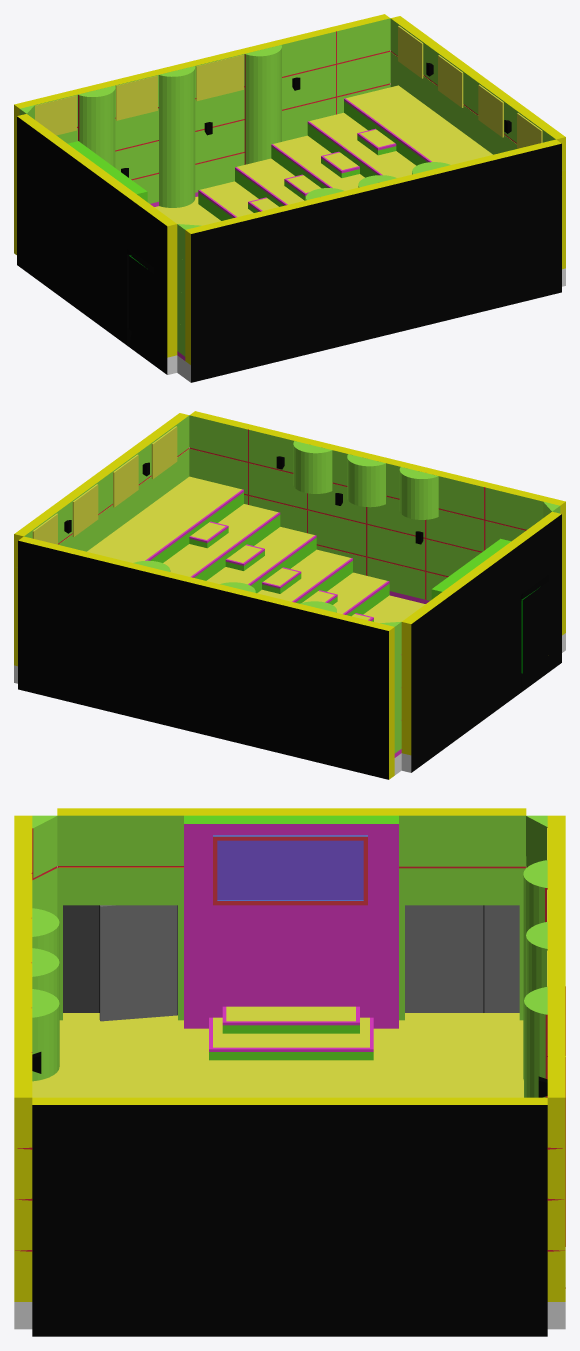
File: lecture.fbx
3 views of the same model, one above another, from view 1: azimuth 30°, elevation 25°; view 2: azimuth 150°, elevation 25°; view 3: azimuth 270°, elevation 25° (orthographic). The views are drawn at different scales.
Parts seen in each view (by area): view 1: wallN, wallS, wallE, floor, wallW, doorE; view 2: wallS, wallN, wallE, floor, wallW, doorE; view 3: wallW, wallE, floor, wallN, wallS, doorE.
Part boxes in pixels (x1,y1,x2,y2): wallN: (177, 139, 561, 382); wallS: (14, 14, 390, 254); wallE: (17, 114, 177, 374); floor: (154, 85, 492, 372); wallW: (390, 16, 565, 286); doorE: (129, 256, 149, 343); wallS: (18, 536, 401, 779); wallN: (189, 411, 565, 652); wallE: (401, 511, 561, 772); floor: (87, 476, 425, 623); wallW: (14, 413, 189, 683); doorE: (523, 585, 543, 673); wallW: (32, 1097, 547, 1336); wallE: (57, 808, 526, 1028); floor: (32, 1006, 523, 1097); wallN: (14, 815, 59, 1329); wallS: (523, 815, 565, 1329); doorE: (63, 905, 177, 1021).
Bounding box in the file's own units: 700 × 255 × 551.
